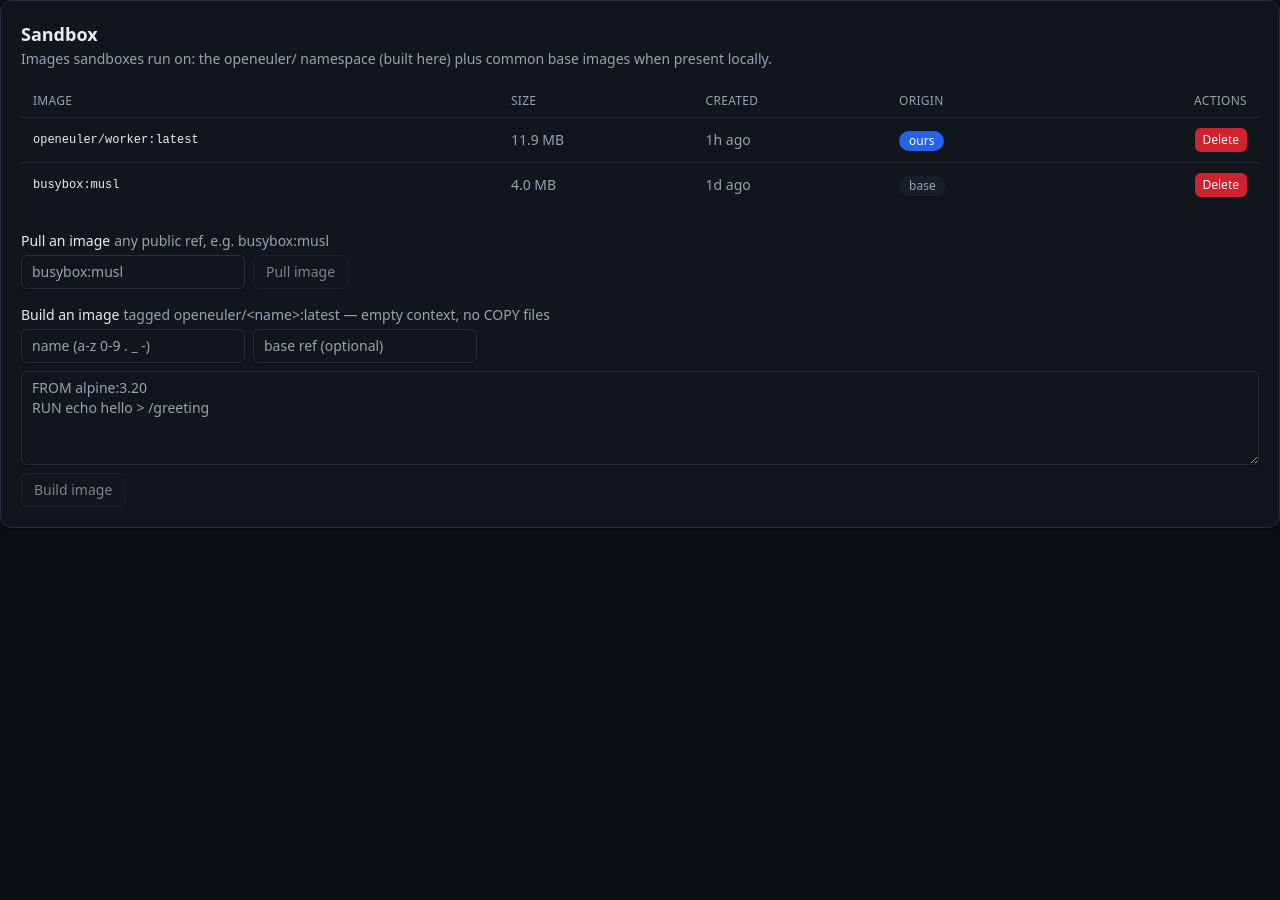
Scenario: delete flow (#100) › confirms in a dialog, DELETEs the encoded ref and refreshes
Click the button "Delete" in the row of "openeuler/worker:latest": (1221,140) [1194, 128, 1247, 152]
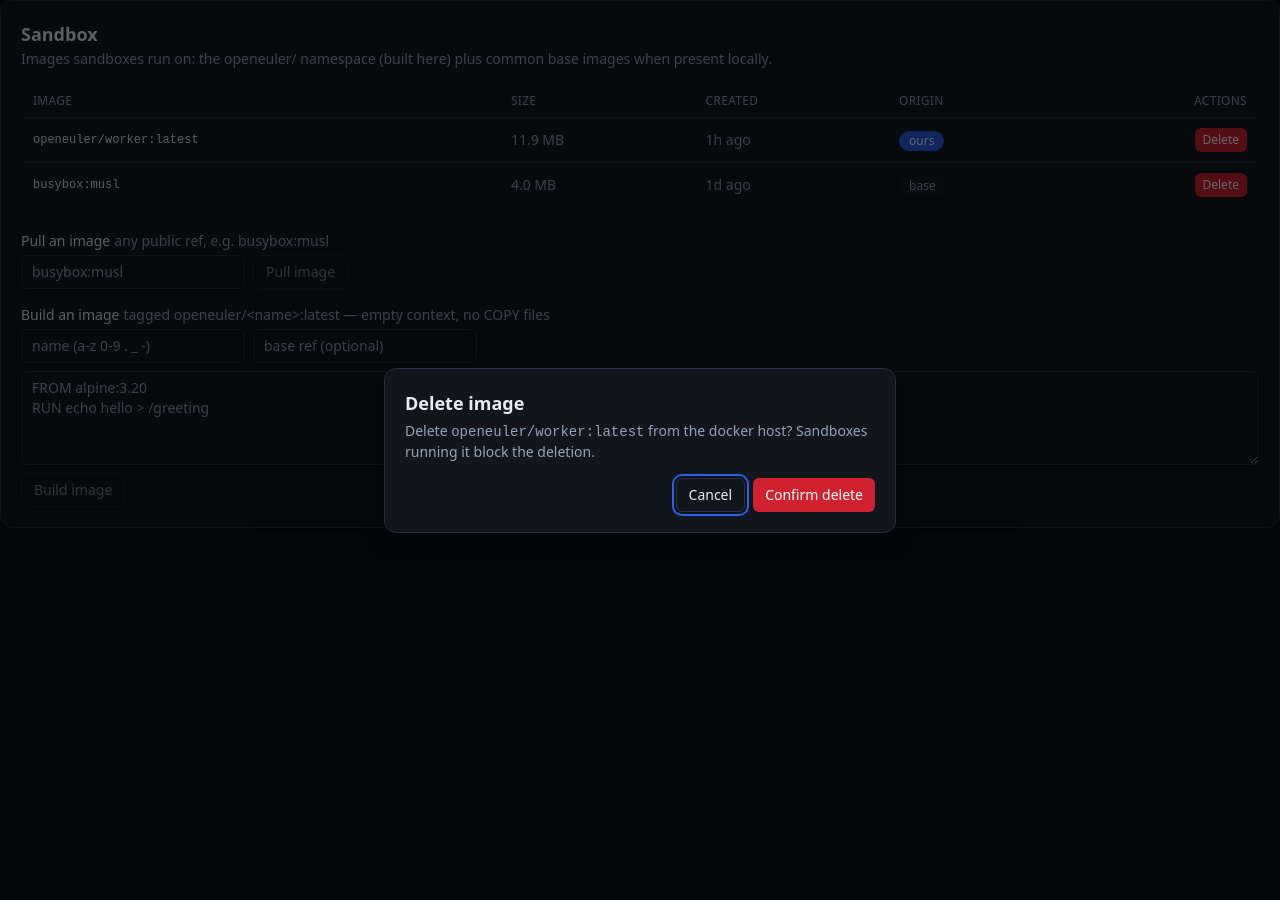
Result: the dialog is shown at [384, 368, 896, 532]
Result: the text "Delete image" is shown at [405, 390, 524, 414]
Click the button "Confirm delete": (814,494) [753, 478, 875, 512]
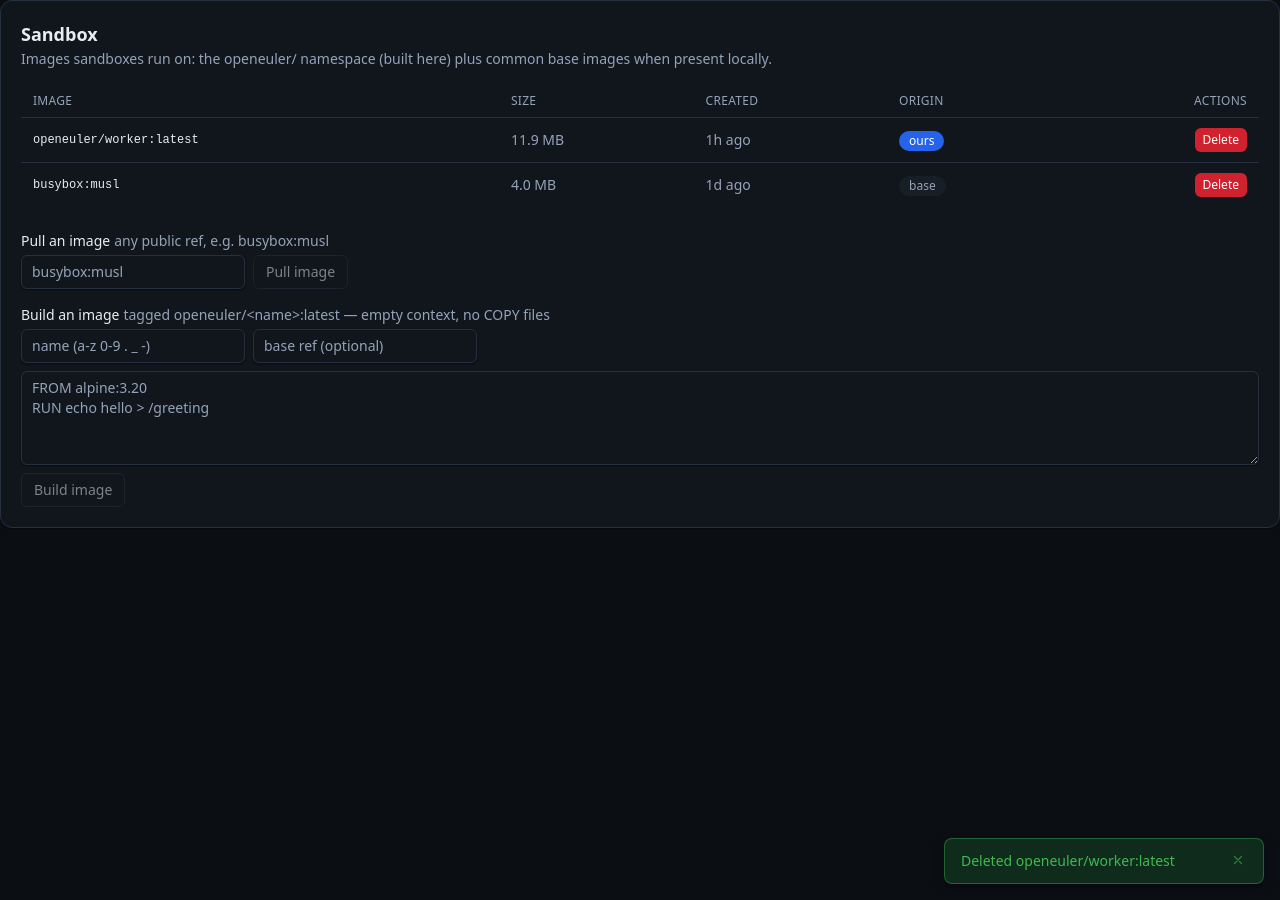
Result: the text "Deleted openeuler/worker:latest" is shown at [961, 851, 1175, 871]
